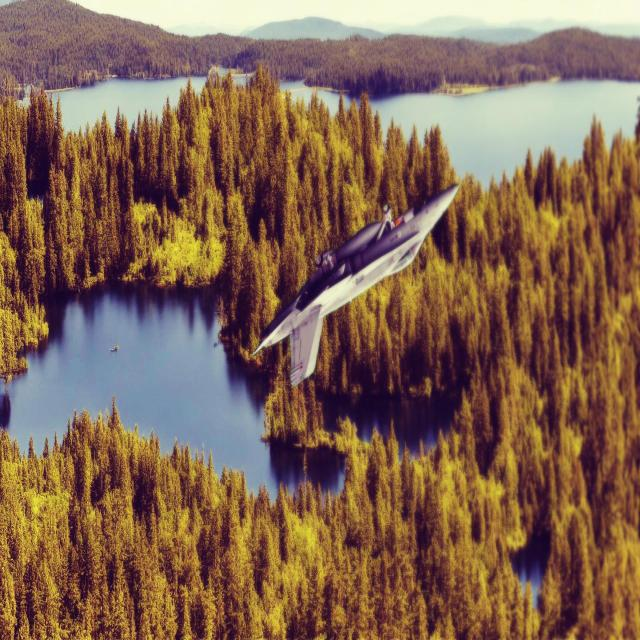airplane: (251, 182, 460, 388)
